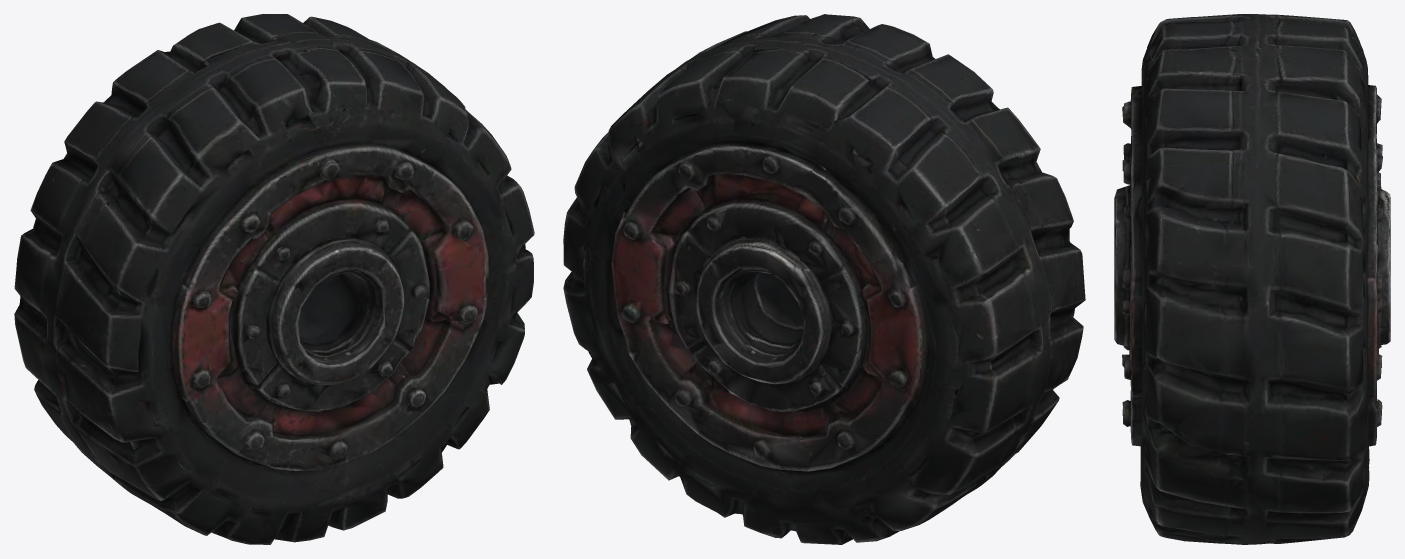
File: wheel_wide.glb
3 views of the same model, side by side, from view 1: azimuth 30°, elevation 25°; view 2: azimuth 150°, elevation 25°; view 3: azimuth 270°, elevation 25° (orthographic). The views are drawn at different scales.
Parts seen in each view (by area): view 1: mesh_node; view 2: mesh_node; view 3: mesh_node.
Part boxes in pixels (<box>): mesh_node: <box>14,14,534,544</box>; mesh_node: <box>563,14,1085,544</box>; mesh_node: <box>1114,14,1390,544</box>.
Bounding box in the file's own units: 1.9 × 1.9 × 0.9912.
Materials: 1 (1 with a texture image).
